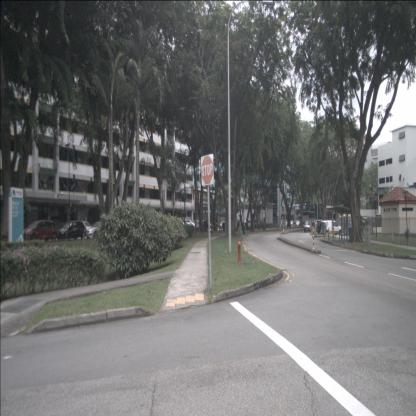vehicle-car: (22, 219, 58, 242), (85, 221, 114, 240), (58, 221, 86, 239), (321, 220, 342, 236), (304, 221, 311, 232), (220, 221, 226, 230)
vehicle-motorcycle: (316, 219, 322, 234)
